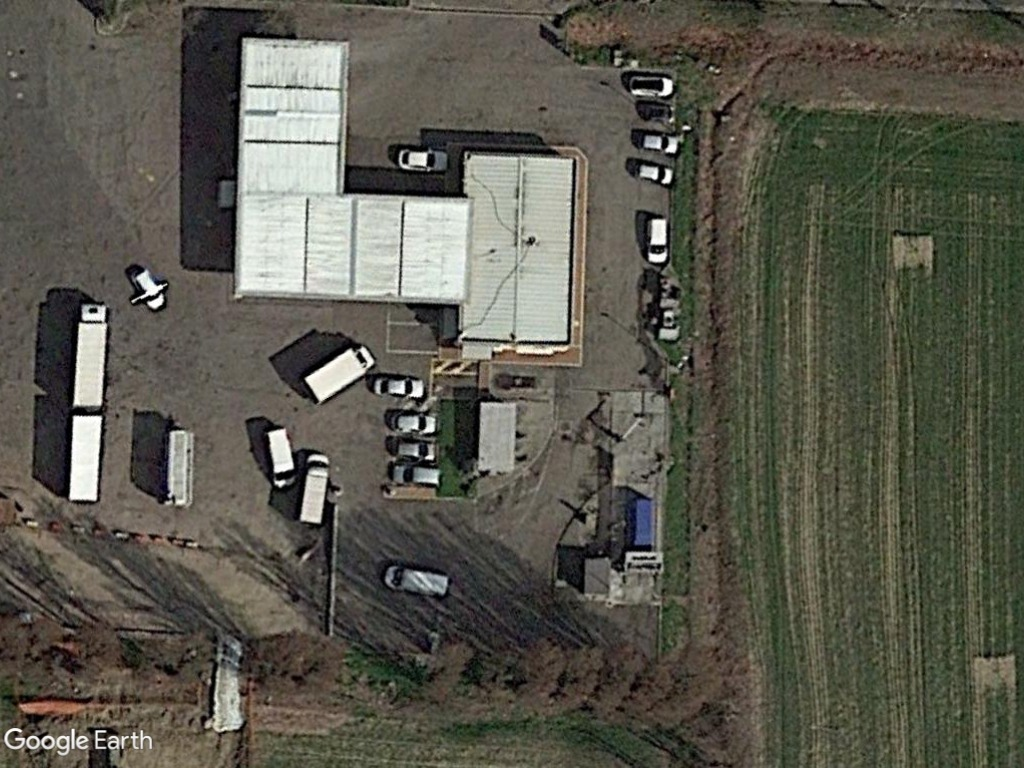bus: (162, 423, 196, 513)
car: (393, 144, 454, 176), (385, 404, 443, 437), (388, 461, 448, 492), (370, 374, 427, 403), (623, 71, 680, 100), (631, 157, 679, 190), (635, 126, 685, 156), (383, 437, 442, 461)
longvehicle: (60, 297, 115, 511)
truck: (301, 339, 375, 410)
van: (380, 561, 455, 604), (295, 449, 335, 528), (259, 425, 303, 495), (643, 213, 673, 267)
